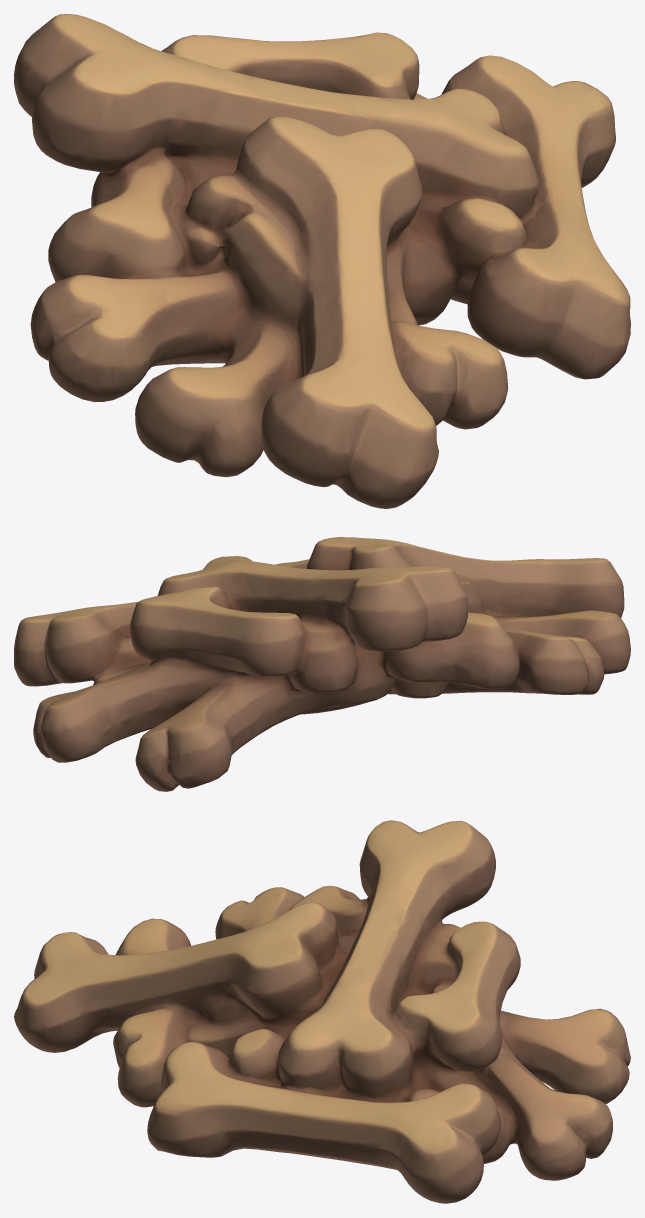
3 renders of one model, top to bottom at view 1: azimuth 30°, elevation 25°; view 2: azimuth 150°, elevation 25°; view 3: azimuth 270°, elevation 25°, orthographic. The views are drawn at different scales.
Parts seen in each view (by area): view 1: Mesh::generatedModels/yp2vgHyx5EHLrquceWhP.gltf; view 2: Mesh::generatedModels/yp2vgHyx5EHLrquceWhP.gltf; view 3: Mesh::generatedModels/yp2vgHyx5EHLrquceWhP.gltf.
Part boxes in pixels (x1,y1,x2,y2): Mesh::generatedModels/yp2vgHyx5EHLrquceWhP.gltf: (14, 14, 630, 508); Mesh::generatedModels/yp2vgHyx5EHLrquceWhP.gltf: (14, 537, 630, 791); Mesh::generatedModels/yp2vgHyx5EHLrquceWhP.gltf: (14, 820, 630, 1203).
Bounding box in the file's own units: 0.9356 × 0.3806 × 1.
1 material, 1 textured.
